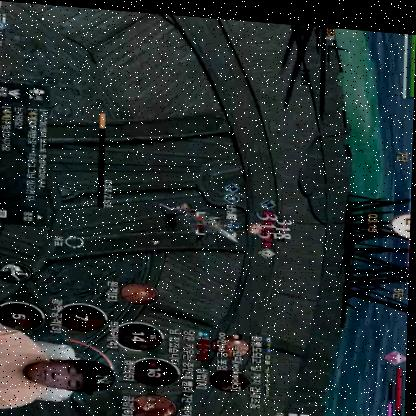streamer: (0, 320, 120, 416)
